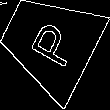P_NW: (20, 14, 78, 70)
